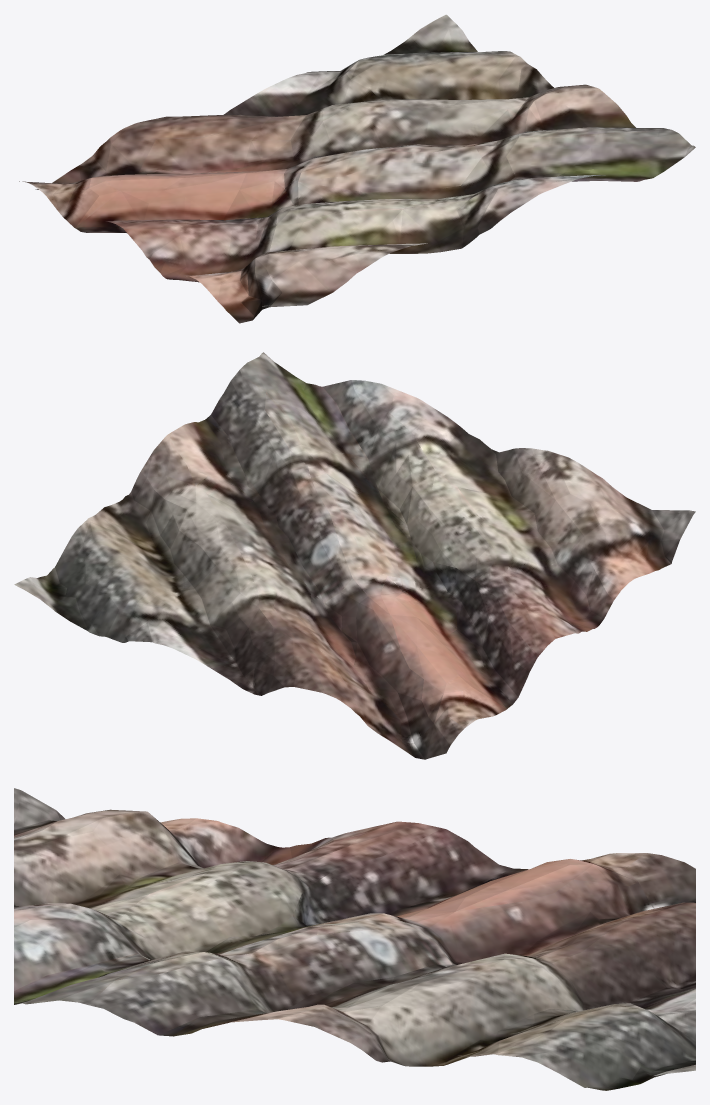
3 renders of one model, top to bottom at view 1: azimuth 30°, elevation 25°; view 2: azimuth 150°, elevation 25°; view 3: azimuth 270°, elevation 25°, orthographic. The views are drawn at different scales.
Size of the model in its own units: 0.8374 by 0.2345 by 0.8374.
Materials: 3 (3 with a texture image).
